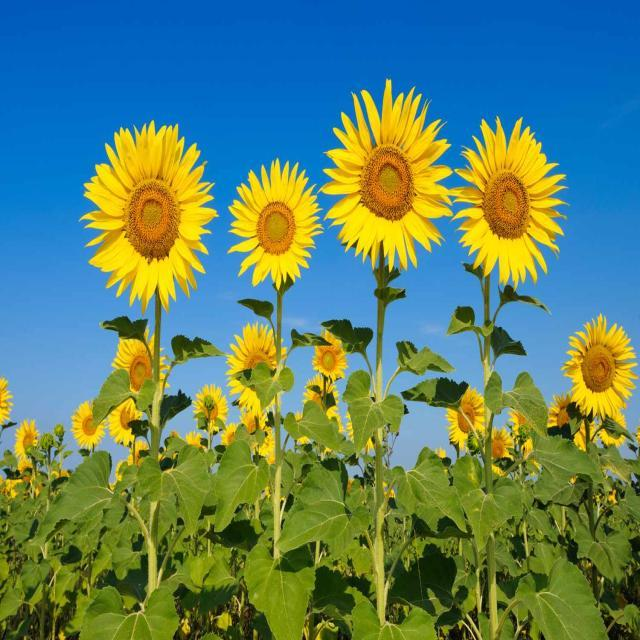sunflower: (78, 119, 218, 314), (318, 77, 454, 272), (448, 113, 570, 290), (226, 157, 324, 290), (561, 314, 638, 421), (225, 321, 289, 418), (110, 326, 170, 418), (547, 390, 598, 450), (445, 384, 485, 450), (344, 388, 376, 452), (311, 328, 348, 382), (70, 398, 106, 451), (107, 396, 142, 446), (192, 382, 228, 430), (302, 374, 339, 420), (486, 426, 514, 478), (596, 410, 626, 448), (507, 408, 534, 450), (14, 418, 39, 461), (238, 406, 268, 435), (128, 438, 149, 470), (0, 376, 13, 426), (257, 424, 275, 456), (220, 421, 238, 446), (524, 451, 540, 477), (116, 458, 130, 482), (186, 430, 201, 448), (266, 450, 276, 466), (434, 446, 446, 458), (635, 427, 640, 446)
